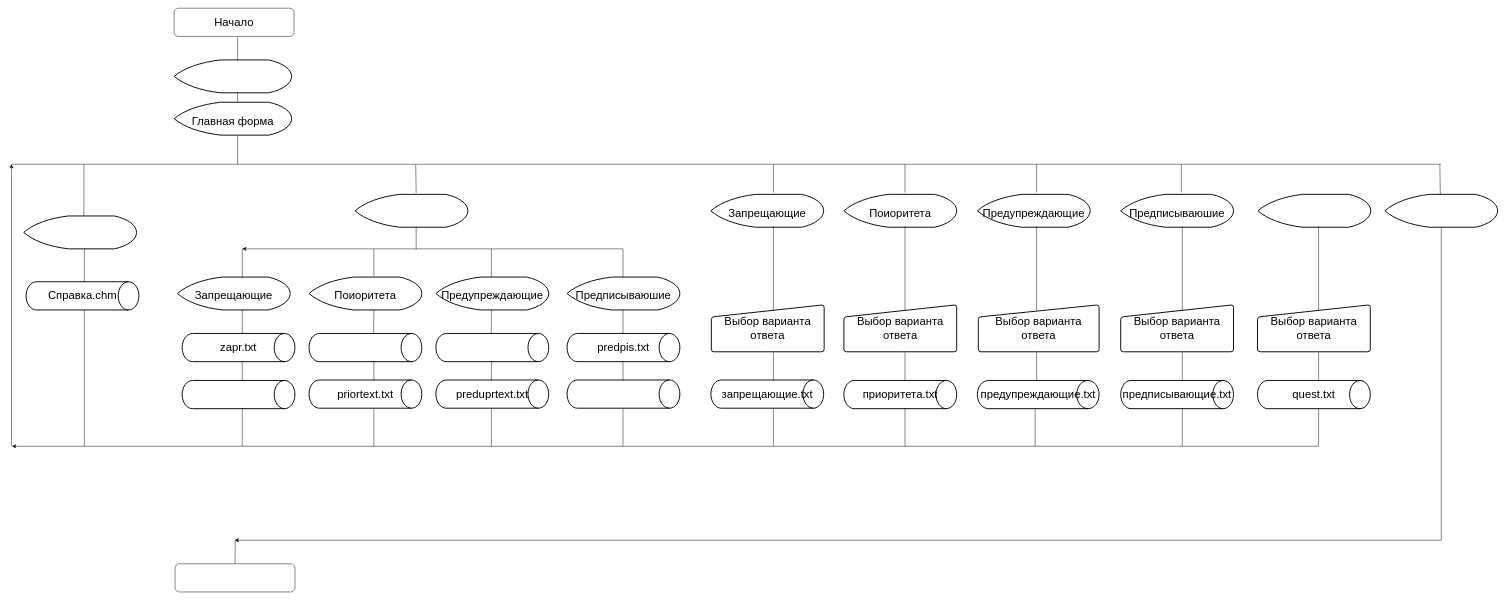
Some shapes in this 1506 by 600 pixel diagram are drawn without their labels. The shapes that lost their labels are listed below. From the top down, each one's box as (x1, y1, x2, y2) in pixels, then its label:
(173, 59, 292, 93): Заставка
(354, 194, 468, 227): Учить
(1257, 194, 1371, 227): Верно/Неверно
(1384, 194, 1498, 227): Выход
(23, 215, 137, 249): Справка
(308, 333, 422, 362): prior.txt
(435, 333, 549, 362): predupr.txt
(181, 380, 295, 409): zaprtext.txt
(566, 379, 680, 408): predpistext.txt
(175, 563, 295, 592): Конец
